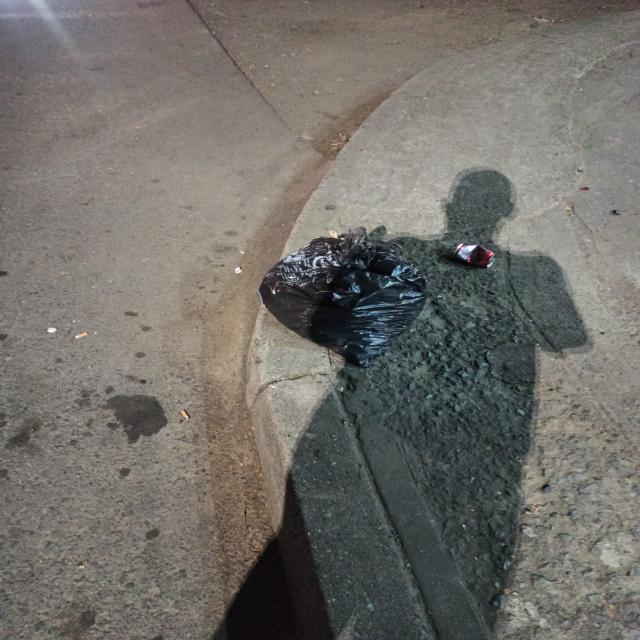Trashbag: (221, 212, 435, 368)
